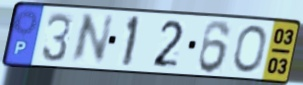1: (119, 14, 141, 69)
2: (152, 19, 186, 71)
3: (42, 10, 72, 64)
6: (196, 18, 232, 76)
N: (68, 13, 117, 66)
O: (231, 23, 268, 75)
